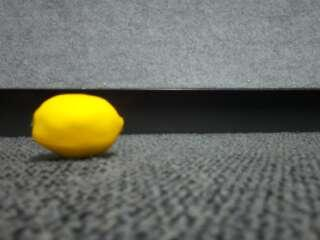lemon: (32, 93, 123, 160)
